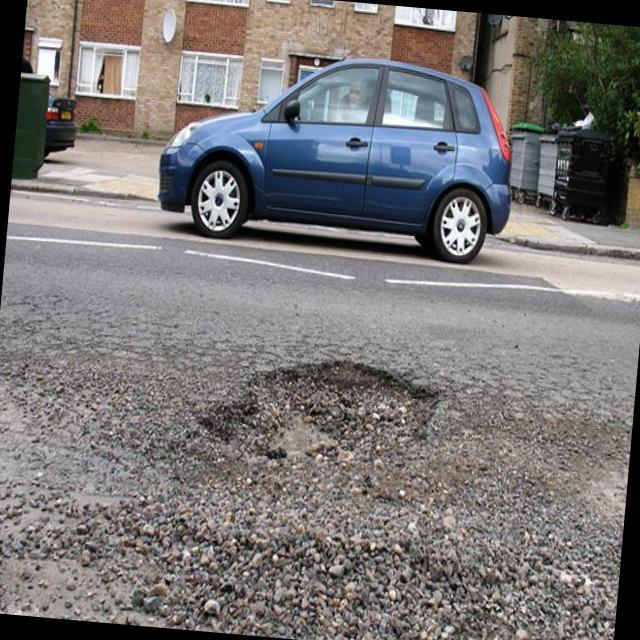Pothole: (205, 362, 434, 484)
